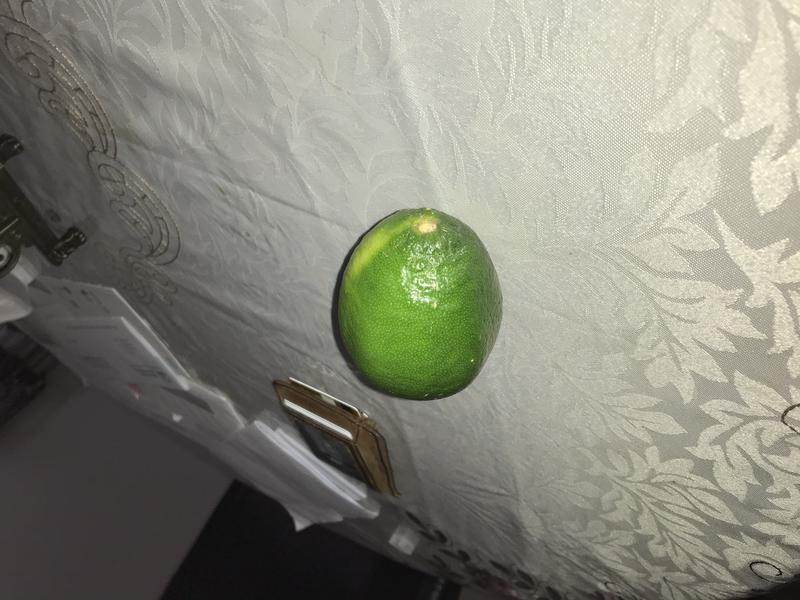lime: (324, 195, 508, 411)
